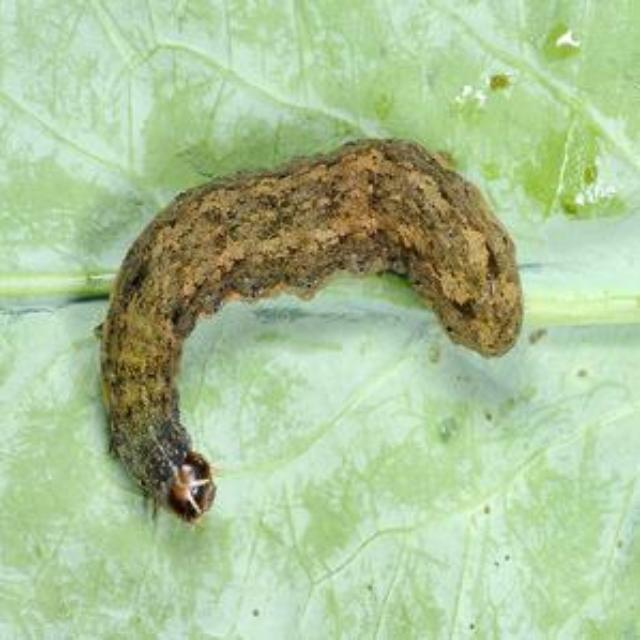Tobacco cutworm: (59, 94, 550, 554)
